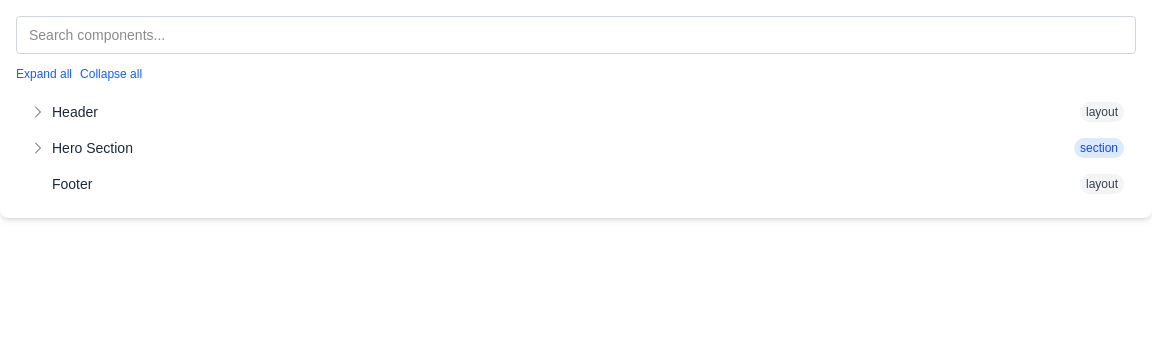
ComponentTree › expands all nodes when expand all is clicked
Click the button "Expand all".
click(44, 74)  # box left=16, top=66, right=72, bottom=82
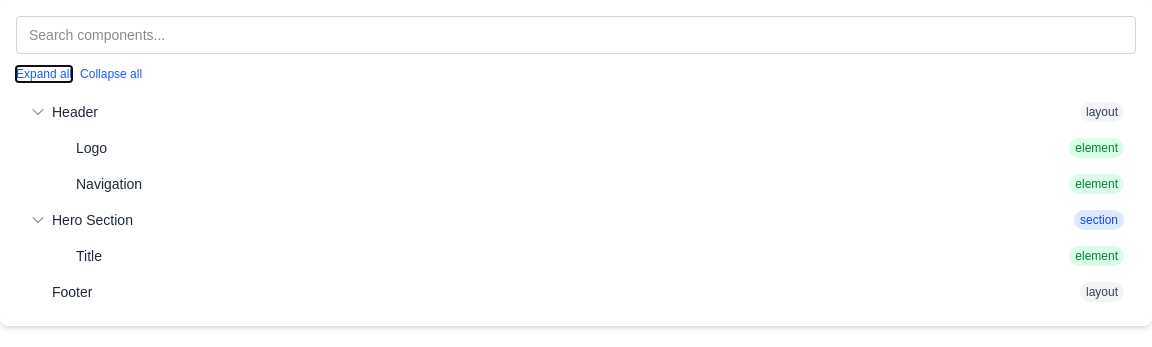
Expected: the button "Logo" is shown, left=76, top=138, right=1069, bottom=158
Expected: the button "Navigation" is shown, left=76, top=174, right=1069, bottom=194
Expected: the button "Title" is shown, left=76, top=246, right=1069, bottom=266
